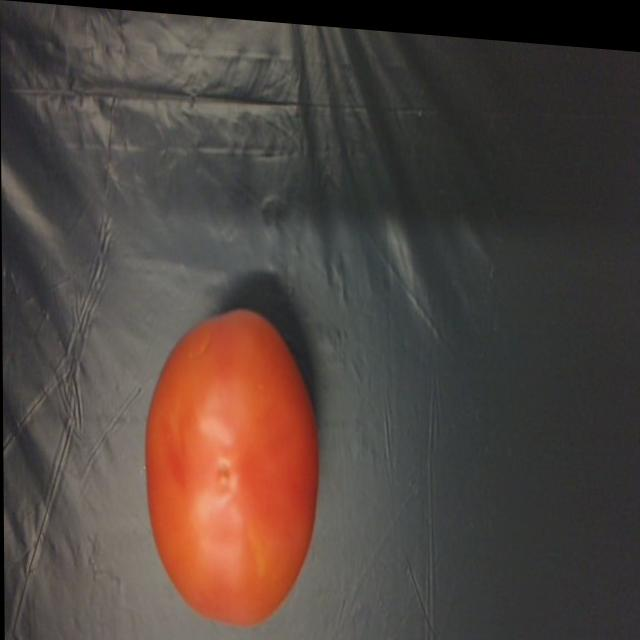sari: (126, 292, 329, 632)
